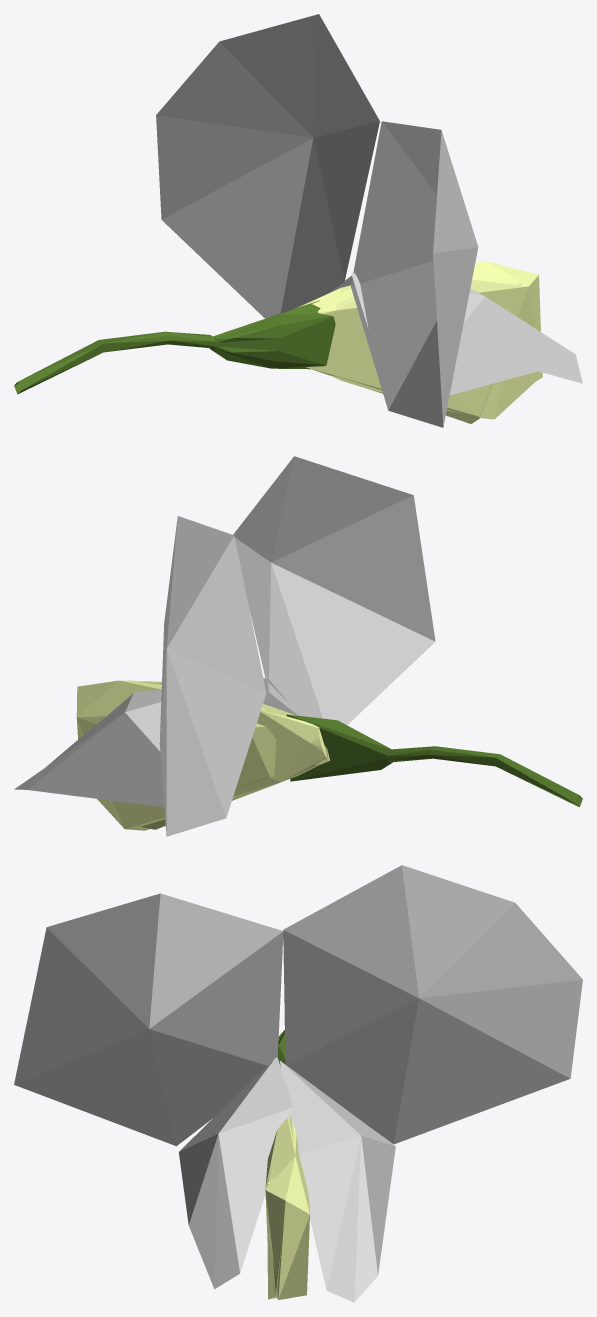
The model's file is SoybeanFlower_open_white_optim.obj.
3 renders of one model, top to bottom at view 1: azimuth 30°, elevation 25°; view 2: azimuth 150°, elevation 25°; view 3: azimuth 270°, elevation 25°, orthographic. The views are drawn at different scales.
Visible parts, largest first — view 1: petals, sepal; view 2: petals, sepal; view 3: petals.
Boxes of the visible parts, <box> form: petals: <box>156,14,582,427</box>; sepal: <box>14,300,335,394</box>; petals: <box>14,456,435,836</box>; sepal: <box>286,714,582,807</box>; petals: <box>14,865,582,1302</box>.
Bounding box in the file's own units: 0.7316 × 0.4958 × 0.6583.
